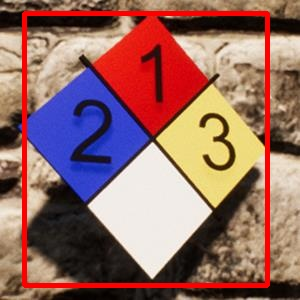nfpa: (24, 13, 267, 285)
